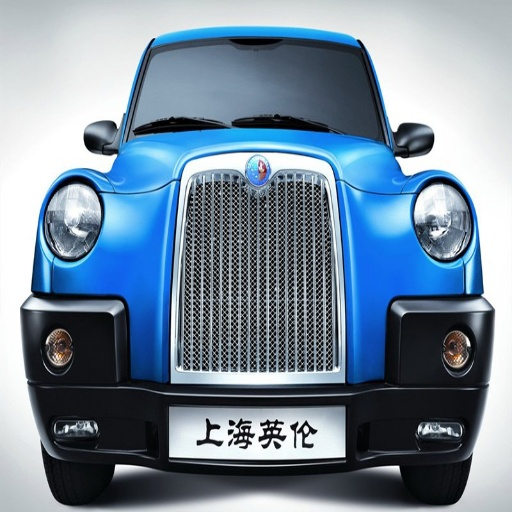front_bumper: (19, 183, 232, 459), (331, 187, 498, 455), (249, 201, 326, 332)
hood: (266, 129, 401, 180), (144, 128, 254, 173)
left_mirror: (394, 123, 433, 155)
